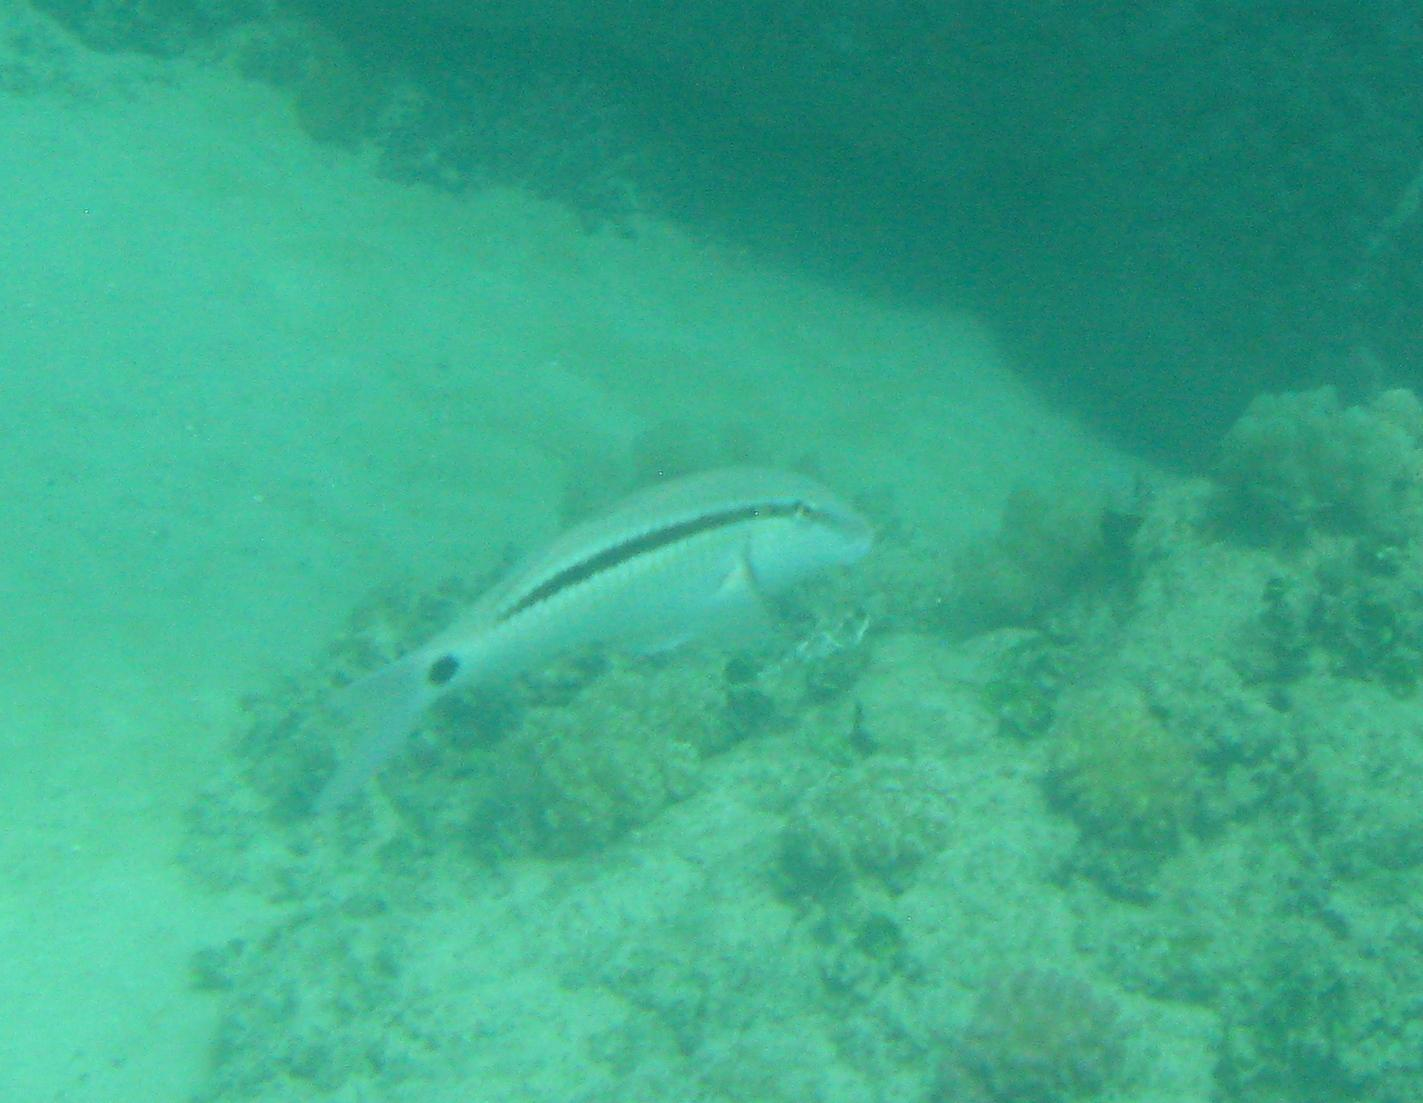Fish: (231, 370, 1001, 862)
